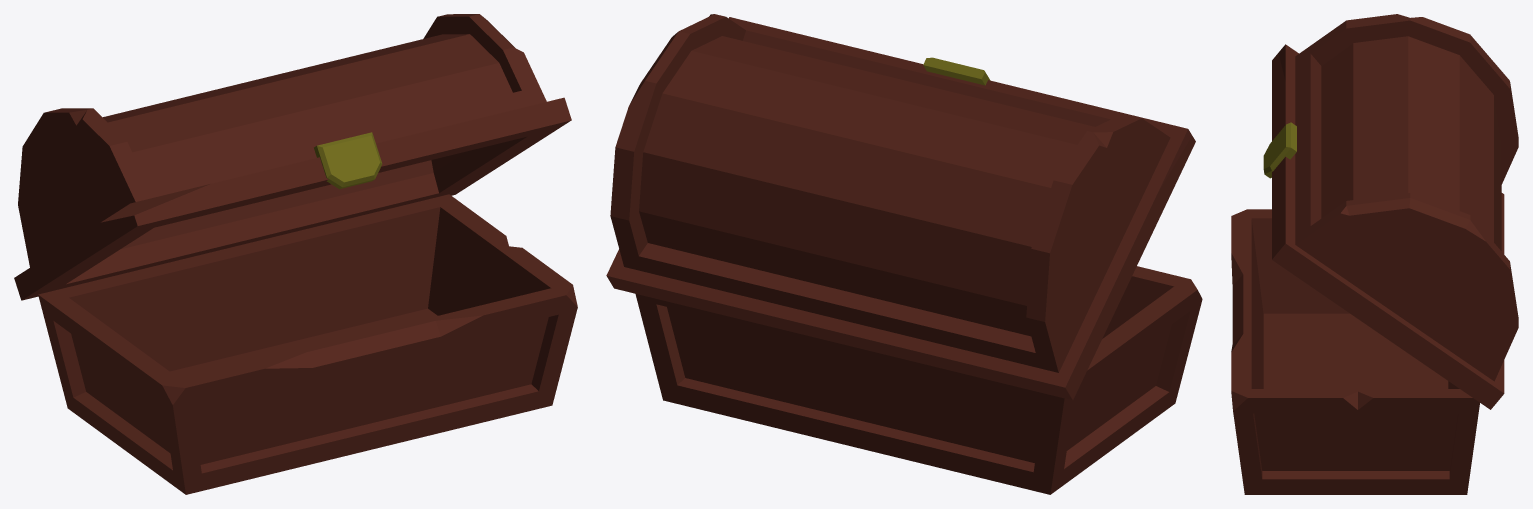
The model's file is treasure_chest_lowPoly_vers2.fbx.
The picture shows the model from 3 angles, left to right: view 1: azimuth 30°, elevation 25°; view 2: azimuth 150°, elevation 25°; view 3: azimuth 270°, elevation 25°; orthographic projection. The views are drawn at different scales.
Parts seen in each view (by area): view 1: Plane.001, Plane.002; view 2: Plane.002, Plane.001; view 3: Plane.002, Plane.001.
Boxes of the visible parts, bbox=[...] form: Plane.001: bbox=[38, 194, 577, 494]; Plane.002: bbox=[14, 14, 571, 300]; Plane.002: bbox=[606, 14, 1195, 400]; Plane.001: bbox=[635, 266, 1202, 494]; Plane.002: bbox=[1263, 14, 1518, 409]; Plane.001: bbox=[1231, 209, 1479, 494].
Size of the model in its own units: 211 by 150 by 129.
